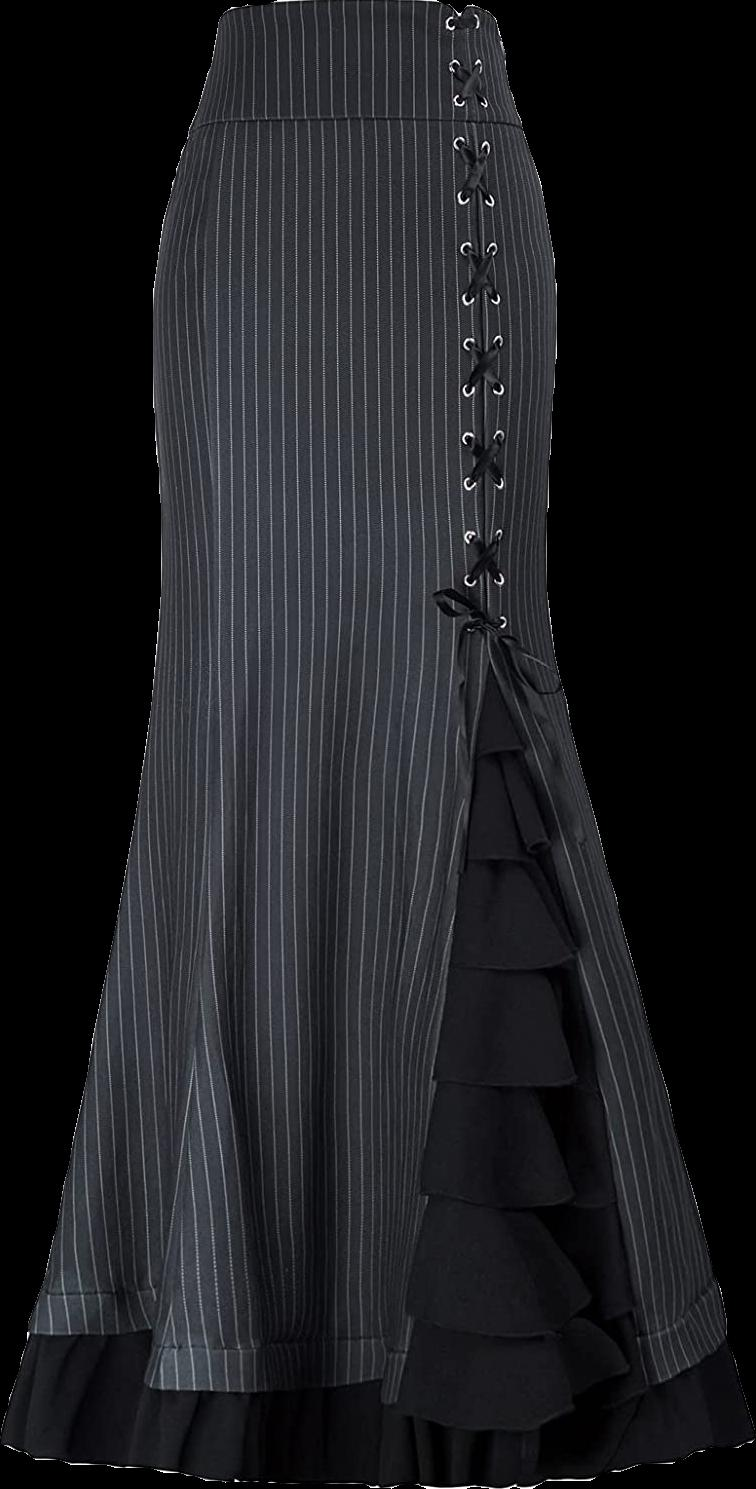Hemline: (16, 666, 733, 1403), (0, 1429, 755, 1487)
Waistline: (180, 107, 527, 143), (220, 0, 487, 24)
